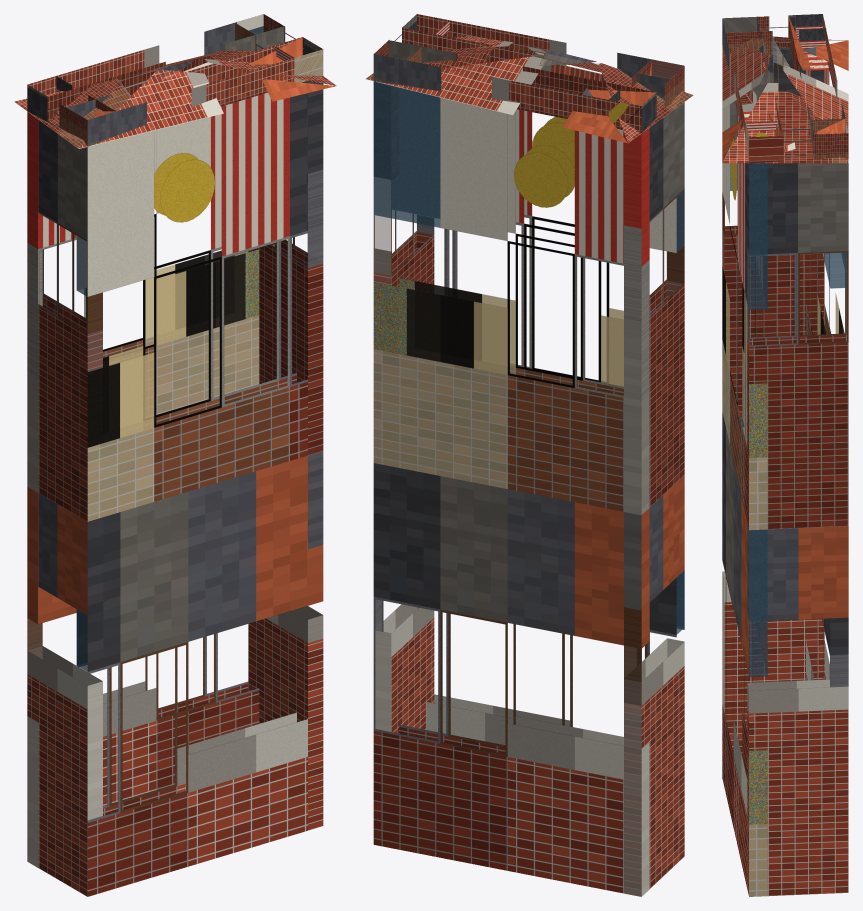
The picture shows the model from 3 angles, left to right: view 1: azimuth 30°, elevation 25°; view 2: azimuth 150°, elevation 25°; view 3: azimuth 270°, elevation 25°; orthographic projection. The views are drawn at different scales.
Visible parts, largest first — view 1: 238536145__wall_0_xb, 238536145__wall_2_xb, 238536145__wall_3_xb, 238536145__wall_1_xb, 238536145__wall_2_xf, 238536145__wall_0_xf, 238536145__cornice_2, 238536145__cornice_0, 238536145_roof_front_xb, 238536145_roof_left_xb, 238536145__cornice_1, 238536145__cornice_3 (+1 smaller); view 2: 238536145__wall_2_xb, 238536145__wall_3_xb, 238536145__wall_2_xf, 238536145__wall_0_xb, 238536145__wall_1_xb, 238536145__cornice_2, 238536145__cornice_0, 238536145_roof_back_xb, 238536145__wall_0_xf, 238536145_roof_right_xb, 238536145__cornice_3, 238536145_roof_left_xb (+1 smaller); view 3: 238536145__wall_1_xb, 238536145__wall_0_xb, 238536145__wall_3_xb, 238536145__wall_0_xf, 238536145_roof_right_xb, 238536145__wall_2_xb, 238536145_roof_back_xb, 238536145__cornice_0, 238536145_roof_front_xb, 238536145__cornice_1, 238536145__cornice_3, 238536145__cornice_2 (+2 smaller).
Part boxes in pixels (x1=…): 238536145__wall_0_xb: x1=76, y1=80, x2=323, y2=896; 238536145__wall_2_xb: x1=27, y1=62, x2=274, y2=867; 238536145__wall_3_xb: x1=27, y1=120, x2=102, y2=896; 238536145__wall_1_xb: x1=248, y1=81, x2=323, y2=830; 238536145__wall_2_xf: x1=146, y1=244, x2=274, y2=344; 238536145__wall_0_xf: x1=77, y1=167, x2=224, y2=671; 238536145__cornice_2: x1=27, y1=22, x2=284, y2=121; 238536145__cornice_0: x1=67, y1=37, x2=303, y2=146; 238536145_roof_front_xb: x1=79, y1=69, x2=335, y2=148; 238536145_roof_left_xb: x1=14, y1=60, x2=193, y2=148; 238536145__cornice_1: x1=235, y1=14, x2=323, y2=82; 238536145__cornice_3: x1=38, y1=76, x2=115, y2=146; 238536145__wall_2_xb: x1=373, y1=81, x2=649, y2=896; 238536145__wall_3_xb: x1=624, y1=102, x2=684, y2=896; 238536145__wall_2_xf: x1=374, y1=82, x2=574, y2=374; 238536145__wall_0_xb: x1=426, y1=109, x2=684, y2=745; 238536145__wall_1_xb: x1=373, y1=82, x2=434, y2=733; 238536145__cornice_2: x1=373, y1=40, x2=656, y2=133; 238536145__cornice_0: x1=402, y1=14, x2=678, y2=99; 238536145_roof_back_xb: x1=365, y1=56, x2=627, y2=143; 238536145__wall_0_xf: x1=521, y1=117, x2=684, y2=633; 238536145_roof_right_xb: x1=366, y1=36, x2=596, y2=78; 238536145__cornice_3: x1=608, y1=59, x2=684, y2=129; 238536145_roof_left_xb: x1=525, y1=44, x2=693, y2=142; 238536145__wall_1_xb: x1=747, y1=163, x2=848, y2=896; 238536145__wall_0_xb: x1=722, y1=104, x2=767, y2=896; 238536145__wall_3_xb: x1=722, y1=47, x2=824, y2=756; 238536145__wall_0_xf: x1=723, y1=147, x2=767, y2=824; 238536145_roof_right_xb: x1=722, y1=39, x2=847, y2=163; 238536145__wall_2_xb: x1=806, y1=53, x2=848, y2=687; 238536145_roof_back_xb: x1=782, y1=40, x2=848, y2=162; 238536145__cornice_0: x1=722, y1=17, x2=783, y2=163; 238536145_roof_front_xb: x1=722, y1=45, x2=772, y2=162; 238536145__cornice_1: x1=745, y1=118, x2=848, y2=161; 238536145__cornice_3: x1=724, y1=14, x2=825, y2=55; 238536145__cornice_2: x1=788, y1=14, x2=846, y2=148.
Bounding box in the file's own units: 0.2523 × 0.7328 × 0.1093.
1 material, 1 textured.
